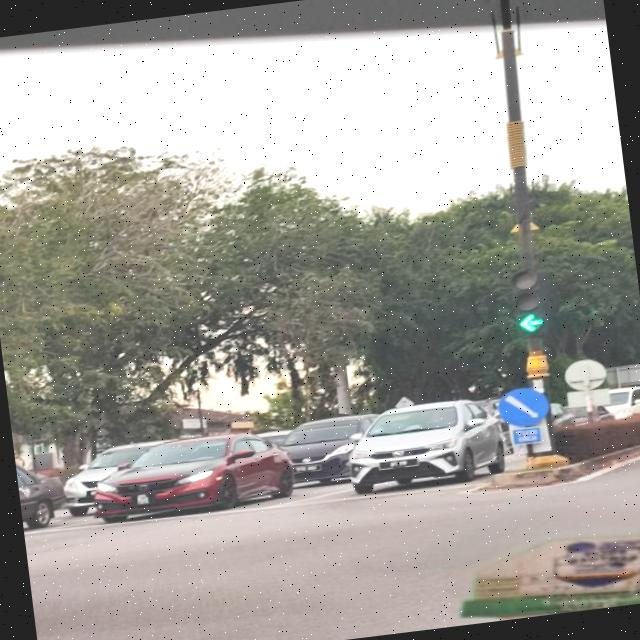green_light: (510, 268, 550, 338)
